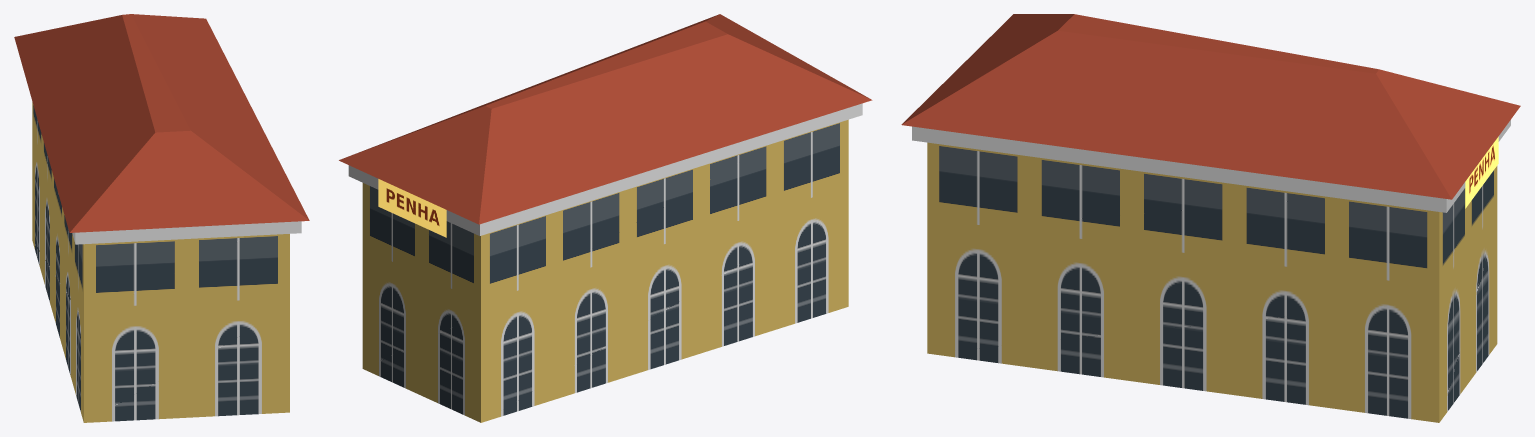
The model's file is penha.glb.
The picture shows the model from 3 angles, left to right: view 1: azimuth 30°, elevation 25°; view 2: azimuth 150°, elevation 25°; view 3: azimuth 270°, elevation 25°; orthographic projection. The views are drawn at different scales.
Visible parts, largest first — view 1: penha_lod0; view 2: penha_lod0; view 3: penha_lod0.
Part boxes in pixels (x1=…): penha_lod0: x1=14, y1=14, x2=309, y2=422; penha_lod0: x1=339, y1=14, x2=872, y2=422; penha_lod0: x1=901, y1=14, x2=1520, y2=422.
Size of what is drawn, in the model's own units: 13.64 by 10.2 by 19.24.
5 materials, 3 textured.
